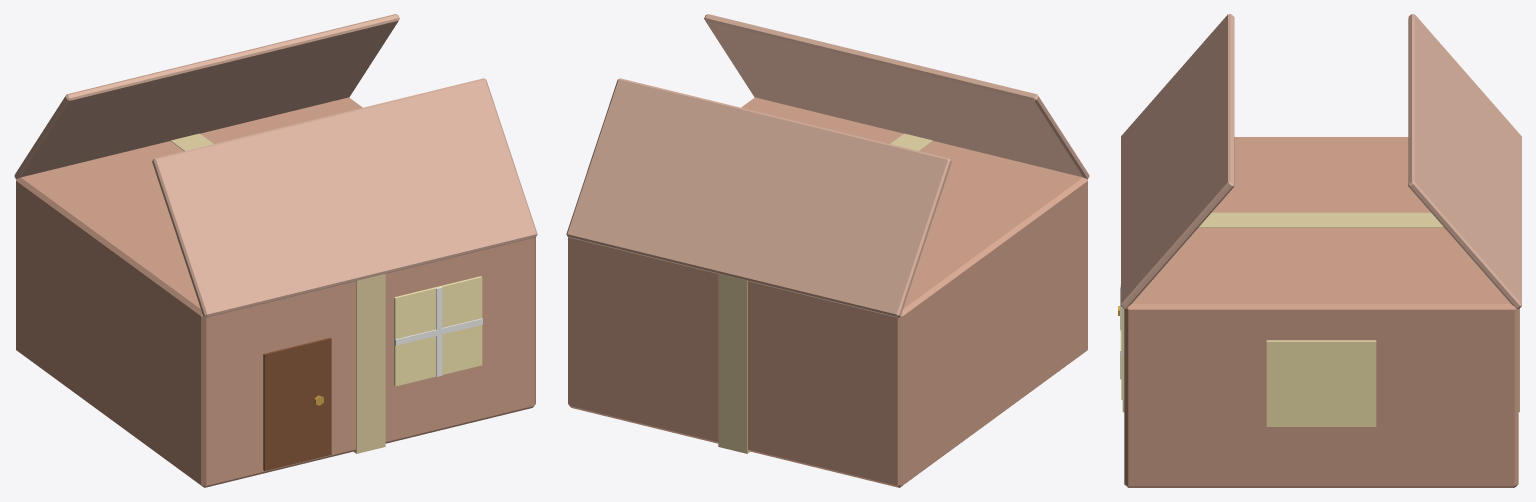
Rendered from rental_garret.glb.
3 views of the same model, side by side, from view 1: azimuth 30°, elevation 25°; view 2: azimuth 150°, elevation 25°; view 3: azimuth 270°, elevation 25° (orthographic). The views are drawn at different scales.
Parts seen in each view (by area): view 1: rental_garret_Body; view 2: rental_garret_Body; view 3: rental_garret_Body.
Part boxes in pixels (bbox=[...]): rental_garret_Body: bbox=[14, 14, 537, 487]; rental_garret_Body: bbox=[566, 14, 1089, 487]; rental_garret_Body: bbox=[1118, 14, 1521, 487].
Bounding box in the file's own units: 0.6 × 0.5 × 0.596.
